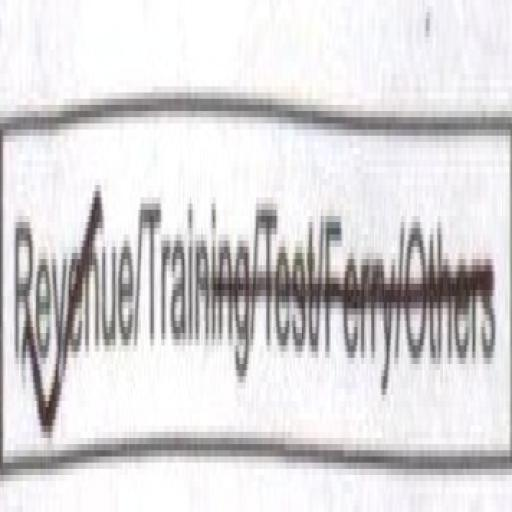check: (2, 70, 137, 504)
